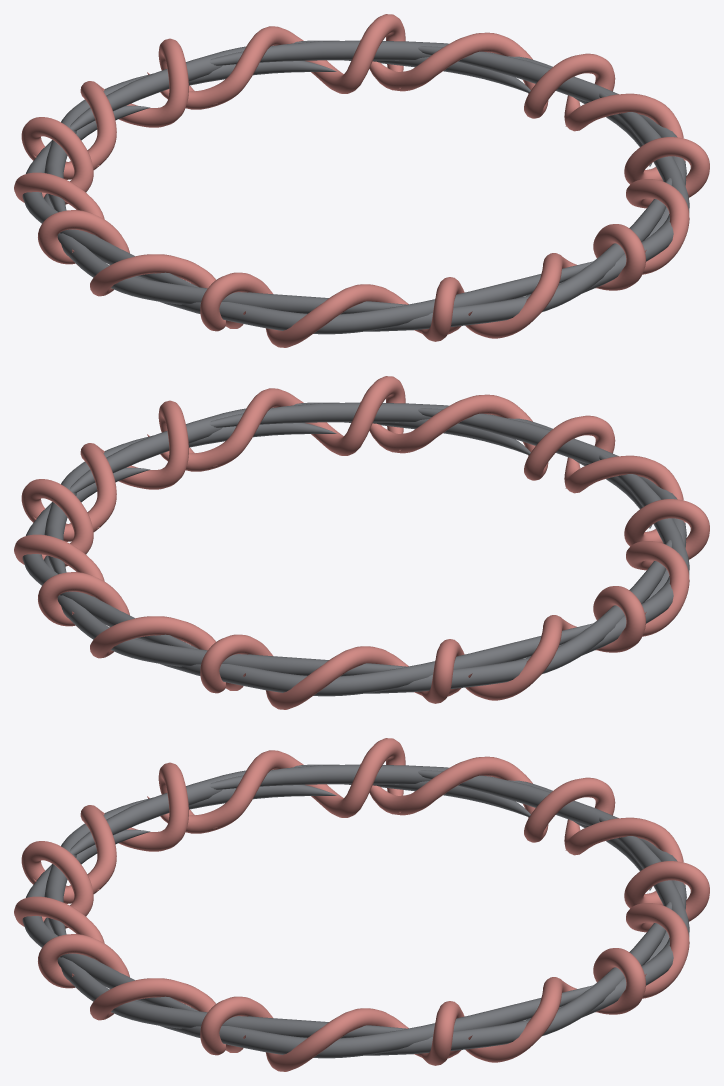
File: ring7.fbx
3 views of the same model, one above another, from view 1: azimuth 30°, elevation 25°; view 2: azimuth 150°, elevation 25°; view 3: azimuth 270°, elevation 25° (orthographic).
Parts seen in each view (by area): view 1: ring7; view 2: ring7; view 3: ring7.
Part boxes in pixels (<box>): ring7: <box>14,14,709,347</box>; ring7: <box>14,376,709,709</box>; ring7: <box>14,738,709,1071</box>.
Bounding box in the file's own units: 601 × 63.5 × 605.
